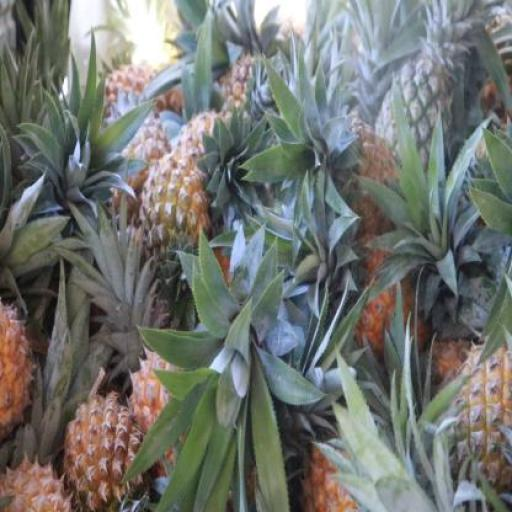------------------------------: (139, 150, 207, 283)
Pineapple - v8 v1: (65, 394, 141, 512), (1, 291, 36, 446)
